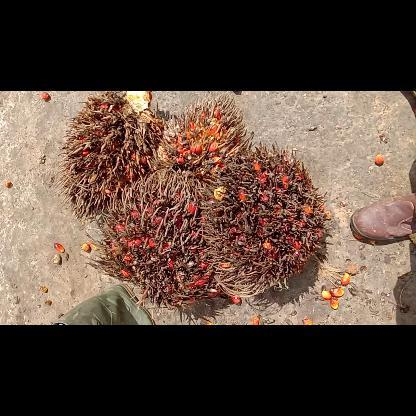Terlalu masak: (189, 139, 333, 303), (84, 166, 230, 312), (56, 90, 168, 224), (156, 90, 260, 188)
